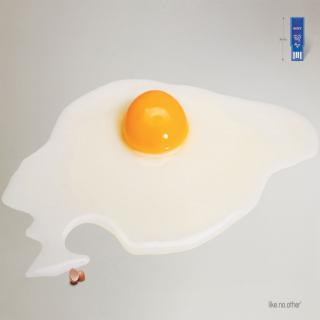Egg: (0, 79, 318, 275)
